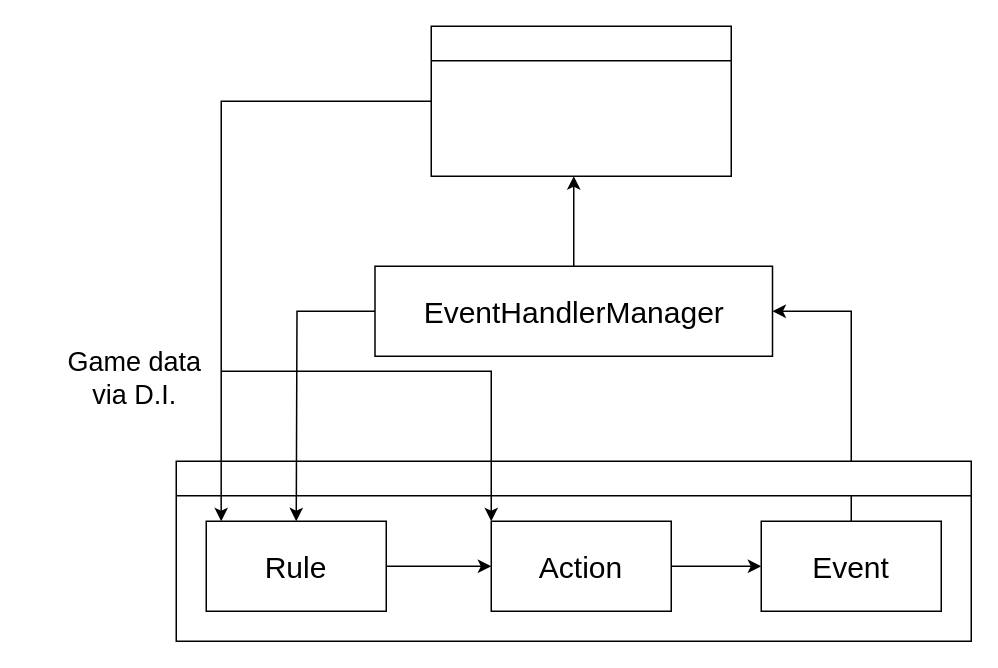
The diagram is 998 pixels wide and 668 high, and some of its shapes have lost their labels. The box of each missing label's shape, as (x1, y1, x2, y2) in pixels:
Controller: (430, 25, 731, 176)
Engine: (175, 460, 971, 641)
